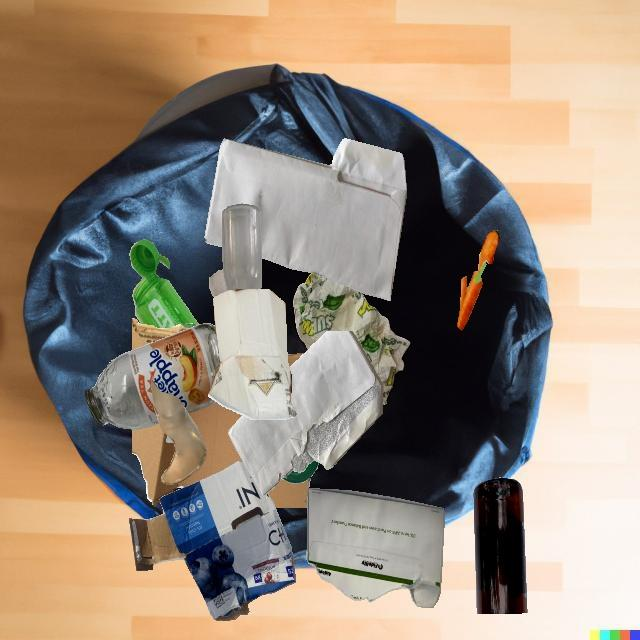biowaste: (457, 230, 499, 331)
cardboard: (129, 461, 296, 621), (206, 355, 311, 476), (208, 289, 296, 419), (132, 405, 242, 507)
glass: (85, 323, 219, 429), (473, 478, 527, 614), (150, 377, 207, 485), (222, 204, 262, 290), (209, 269, 228, 297)
paper: (204, 138, 407, 301), (228, 331, 383, 495), (307, 488, 445, 607), (293, 273, 411, 406)
plastic: (129, 239, 199, 328), (282, 461, 319, 483)
